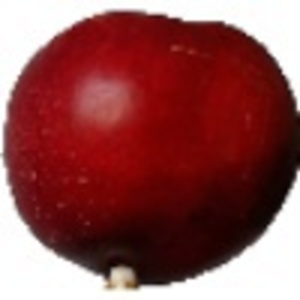nectarina: (1, 8, 300, 294)
